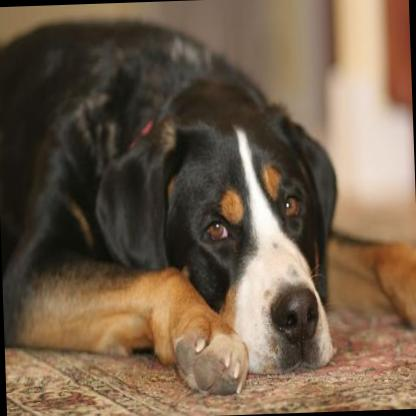Greater_Swiss_Mountain_dog: (0, 9, 343, 401)
